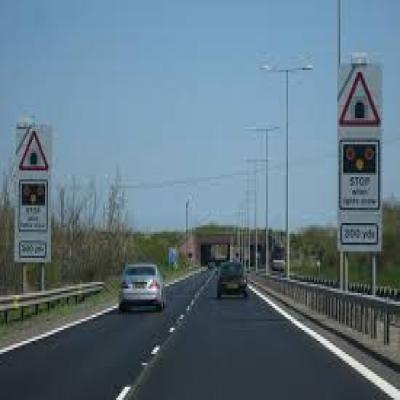clear-road: (138, 293, 387, 400), (0, 282, 189, 400)
